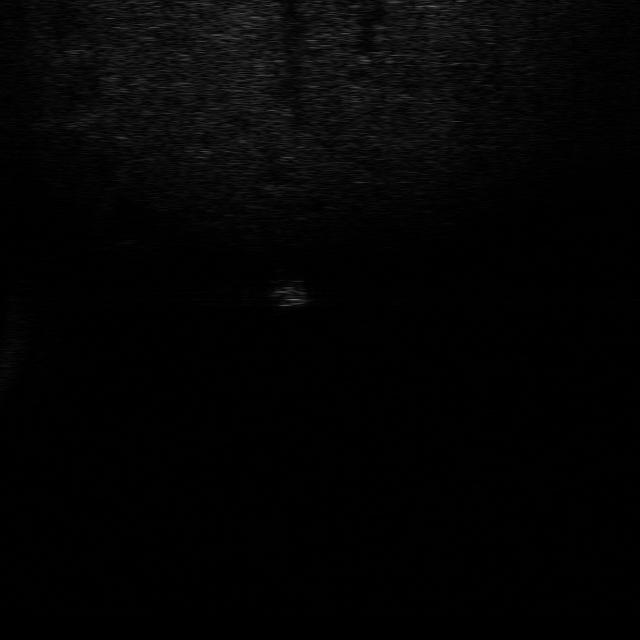human body: (266, 272, 312, 310)
